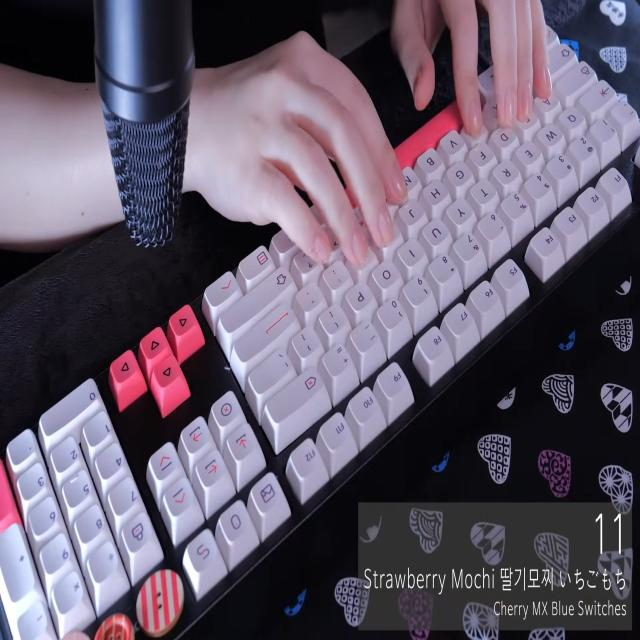keyboard-with-hands: (0, 21, 640, 640)
